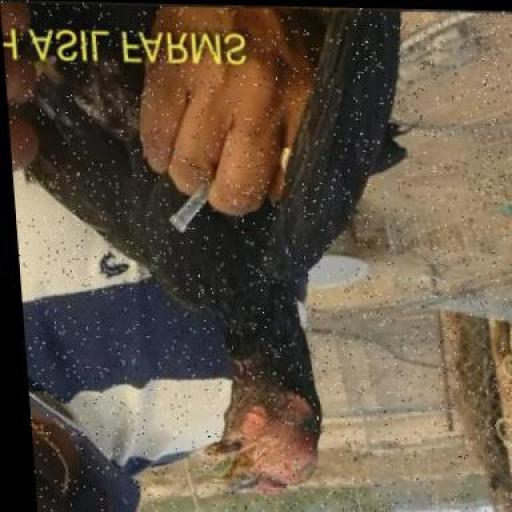disease: (213, 369, 317, 508)
